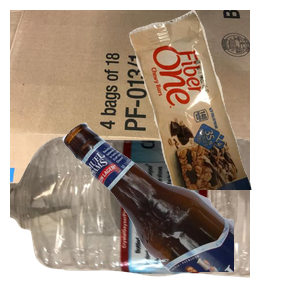cardboard: (10, 10, 250, 190)
glass: (60, 120, 300, 300)
plastic: (10, 134, 250, 300)
trash: (127, 10, 300, 190)
